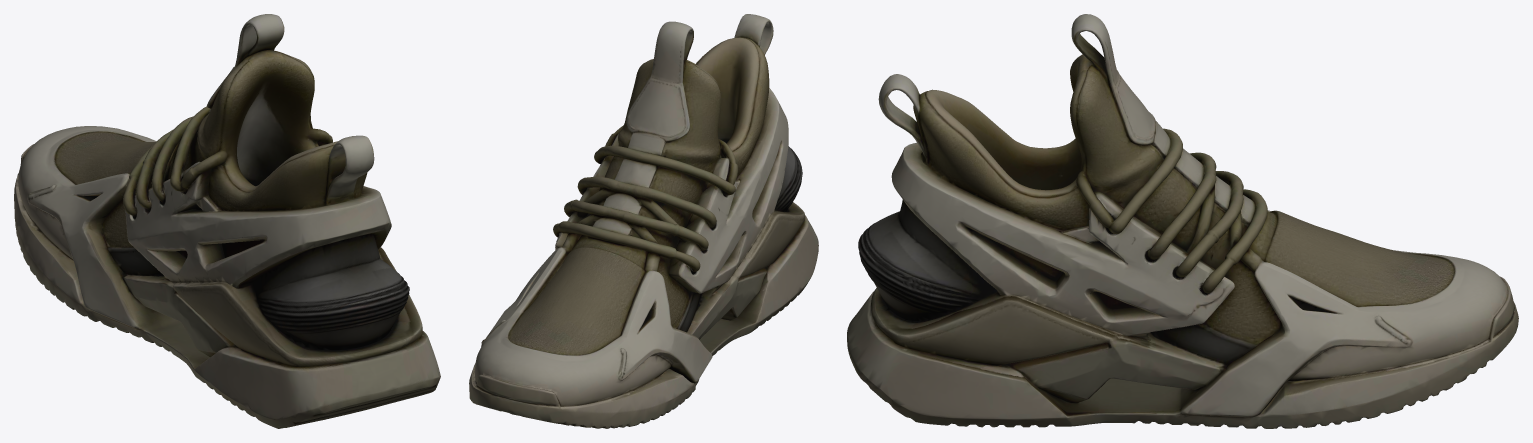
Rendered from Shoe5.glb.
The picture shows the model from 3 angles, left to right: view 1: azimuth 30°, elevation 25°; view 2: azimuth 150°, elevation 25°; view 3: azimuth 270°, elevation 25°; orthographic projection. The views are drawn at different scales.
Visible parts, largest first — view 1: tripo_node_c09a11bb-3e17-4a24-b844-a712034bf7a2; view 2: tripo_node_c09a11bb-3e17-4a24-b844-a712034bf7a2; view 3: tripo_node_c09a11bb-3e17-4a24-b844-a712034bf7a2.
Part boxes in pixels (x1=…): tripo_node_c09a11bb-3e17-4a24-b844-a712034bf7a2: x1=14, y1=14, x2=440, y2=428; tripo_node_c09a11bb-3e17-4a24-b844-a712034bf7a2: x1=469, y1=14, x2=818, y2=428; tripo_node_c09a11bb-3e17-4a24-b844-a712034bf7a2: x1=847, y1=14, x2=1518, y2=428.
Bounding box in the file's own units: 0.3789 × 0.5963 × 1.
1 material, 1 textured.
